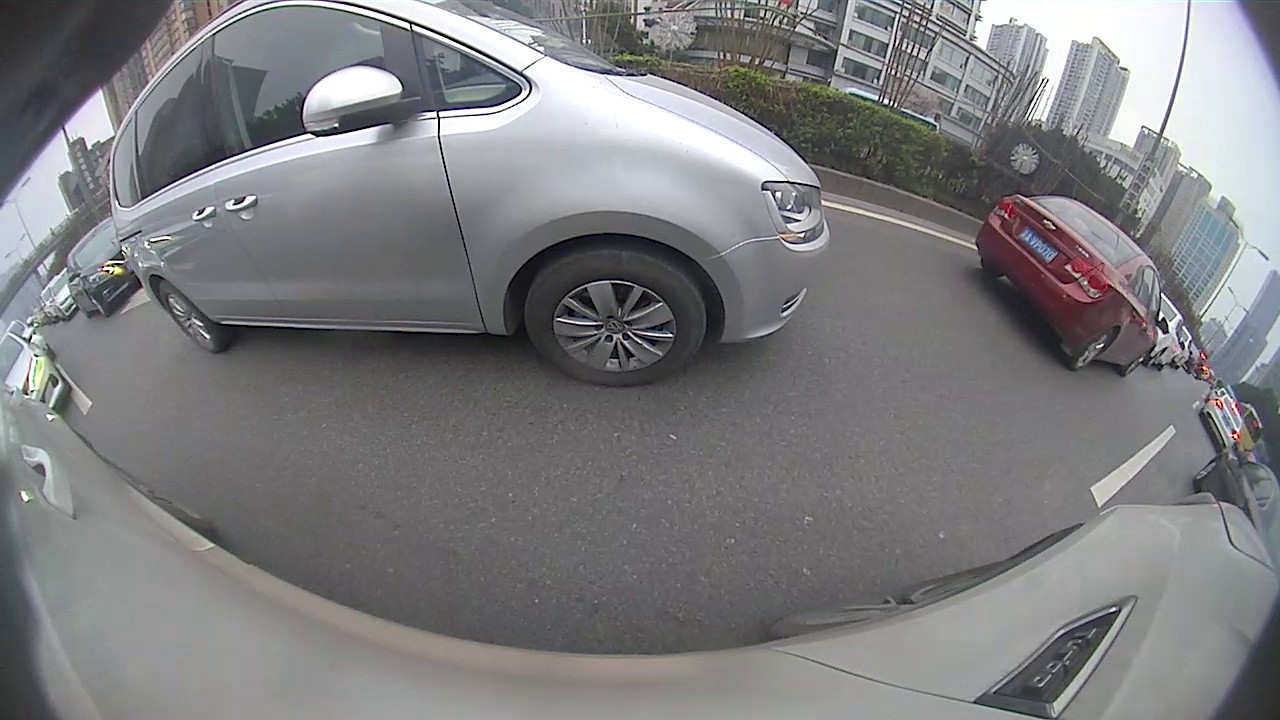car: (108, 1, 831, 391), (975, 193, 1171, 379), (63, 215, 143, 321), (1196, 390, 1244, 456)
front: (522, 250, 707, 387)
rear: (155, 278, 222, 355), (1068, 325, 1112, 374)
